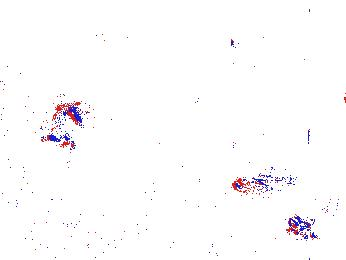red belly glassfish: (230, 174, 294, 195), (288, 216, 312, 234)
redtail glassfish: (50, 101, 88, 151)
